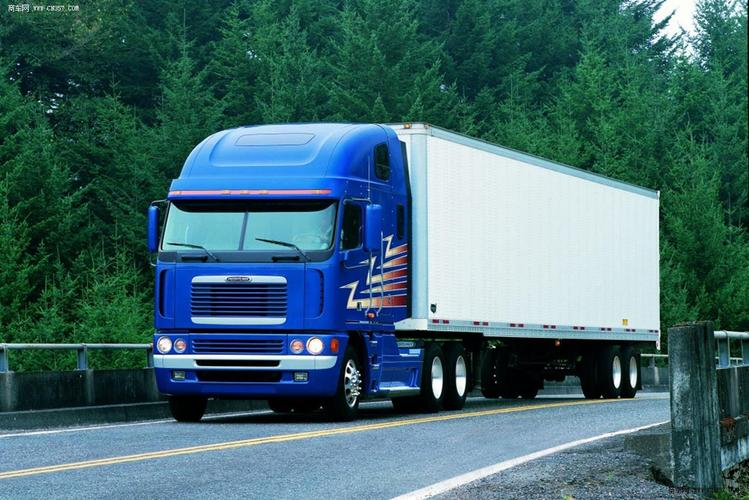卡车: (146, 121, 667, 409)
